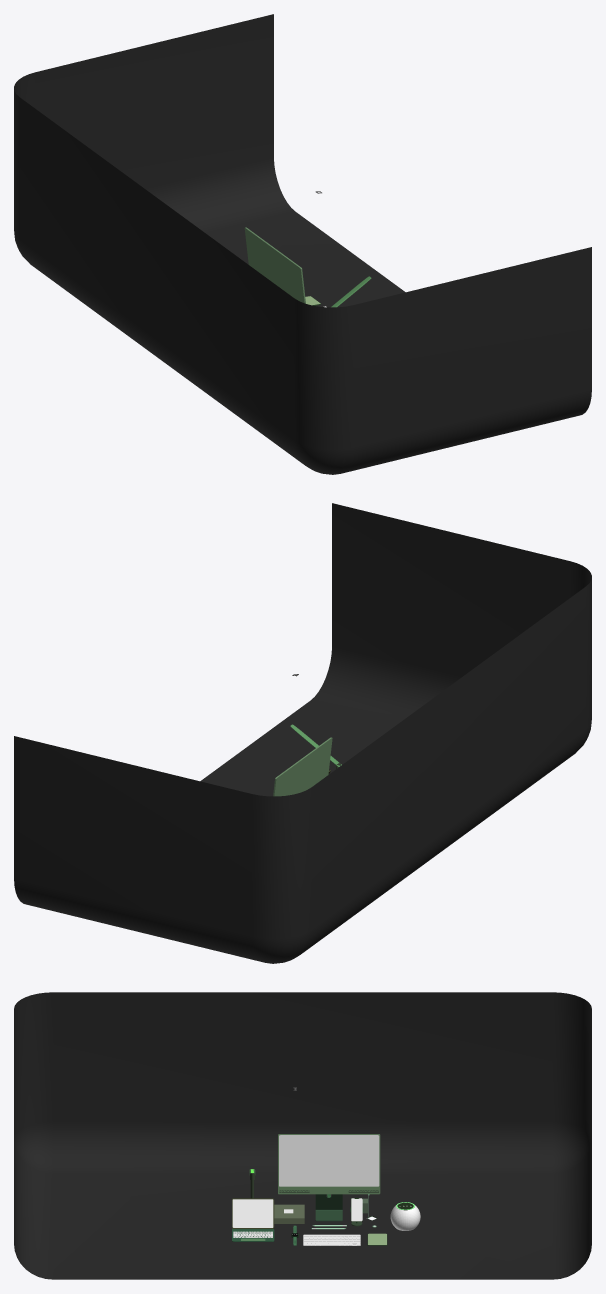
The model's file is newmodel.glb.
The picture shows the model from 3 angles, top to bottom: view 1: azimuth 30°, elevation 25°; view 2: azimuth 150°, elevation 25°; view 3: azimuth 270°, elevation 25°; orthographic projection. The views are drawn at different scales.
Visible parts, largest first — view 1: Plane.006, Plane.004, Cube.002; view 2: Plane.004, Plane.006, Cube.002; view 3: Plane.006, Plane.004, Cube.002, Cylinder, Cube.003, Cylinder.004, KeyboardBaru, Cube.007.
Boxes of the visible parts, x1,y1,x2,y2 form: Plane.006: (157,198,591,474); Plane.004: (14,14,405,364); Cube.002: (244,227,305,303); Plane.004: (14,687,448,963); Plane.006: (200,503,591,853); Cube.002: (273,737,332,796); Plane.006: (14,992,303,1279); Plane.004: (302,992,591,1279); Cube.002: (278,1134,380,1194); Cylinder: (232,1198,274,1241); Cube.003: (315,1194,342,1221); Cylinder.004: (390,1202,420,1230); KeyboardBaru: (303,1234,360,1245); Cube.007: (274,1204,304,1223).
Size of what is drawn, in the model's own units: 11.81 by 8.76 by 23.59.
